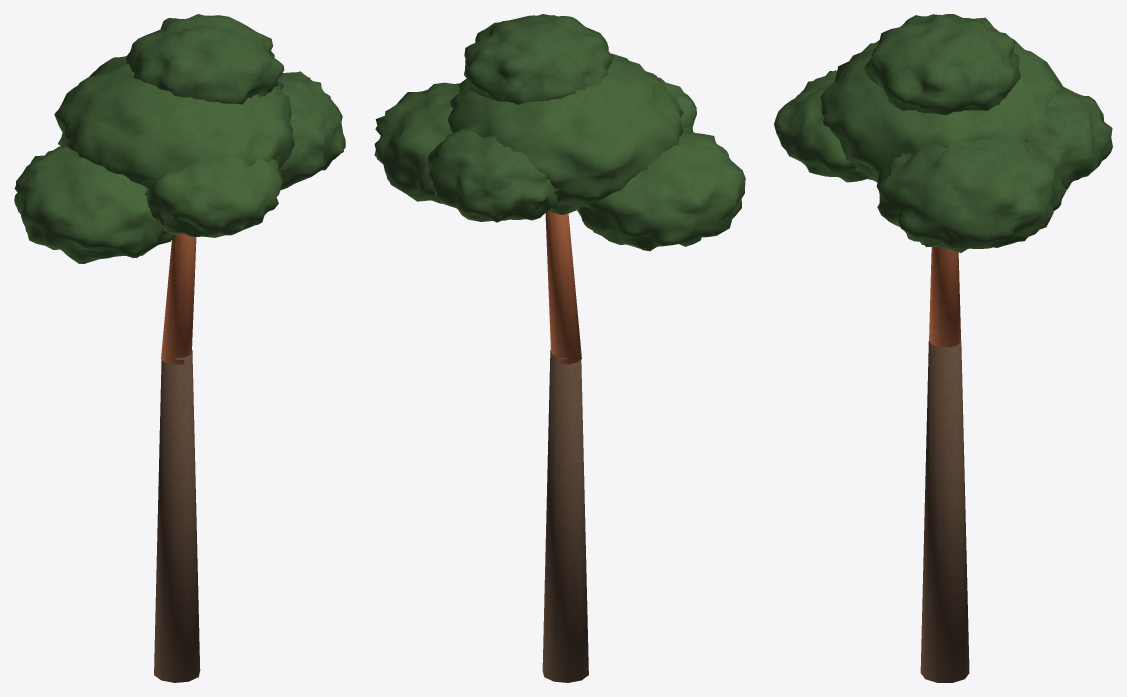
File: pine.glb
The picture shows the model from 3 angles, left to right: view 1: azimuth 30°, elevation 25°; view 2: azimuth 150°, elevation 25°; view 3: azimuth 270°, elevation 25°; orthographic projection. The views are drawn at different scales.
Visible parts, largest first — view 1: pine; view 2: pine; view 3: pine.
Part boxes in pixels (x1,y1,x2,y2): pine: (14, 14, 345, 682); pine: (374, 14, 745, 682); pine: (774, 14, 1112, 682).
Size of the model in its own units: 4.84 by 8.98 by 4.16.
Materials: 1 (1 with a texture image).
